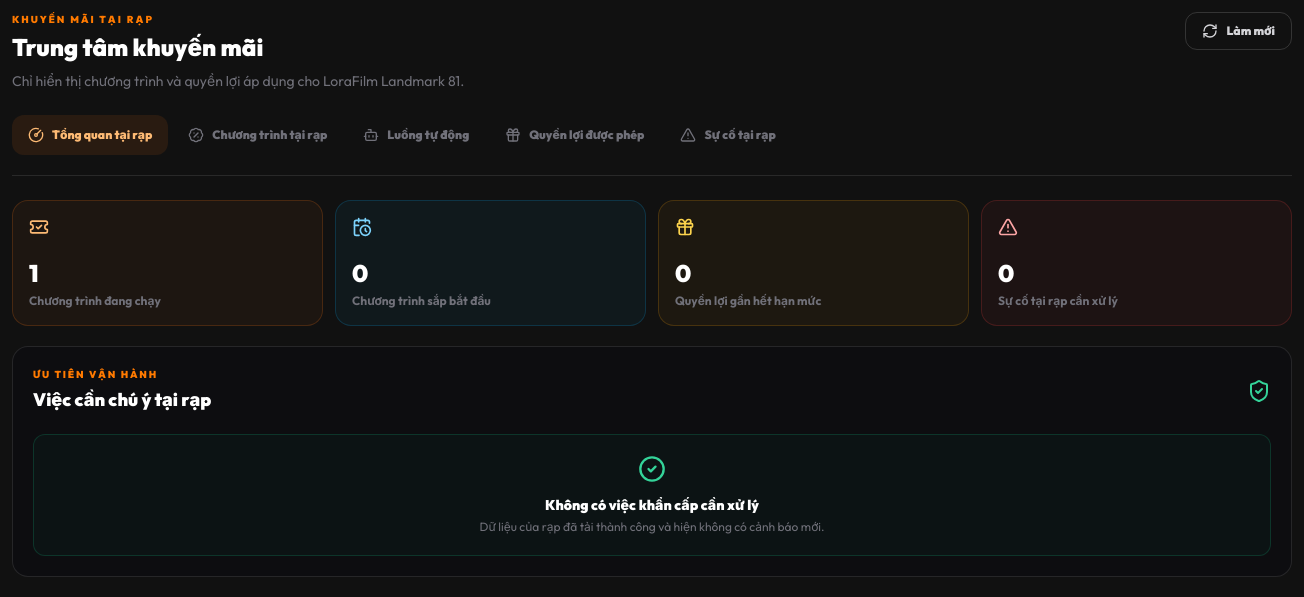
Test: ManagerPromotionCenterPage › uses a cinema-specific information architecture without Admin or UAT controls
The width and height of the screenshot is (1304, 597).
Expected: the text "Không có việc khẩn cấp cần xử lý" is shown, [545,496,759,514]
What coordinates should you click on to do the following:
click the button "Chương trình tại rạp"
I would click on:
 (258, 135)
Its box is [172,115,343,155].
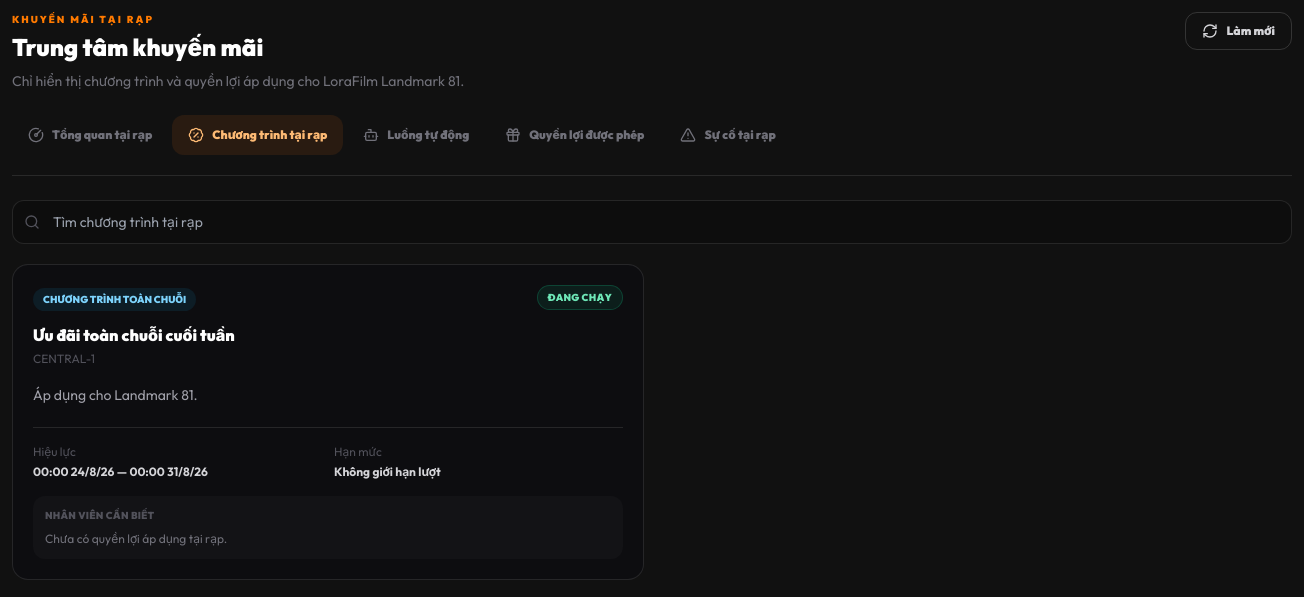
Now the heading "Ưu đãi toàn chuỗi cuối tuần" is shown, box [33,323,235,347]
Now the text "Chương trình toàn chuỗi" is shown, box [33,288,196,311]
